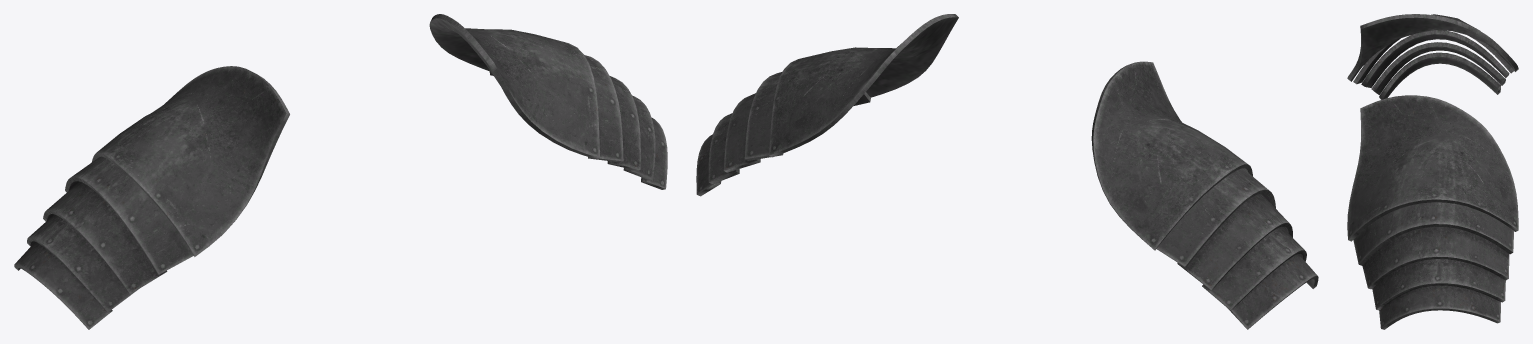
File: sk_uruk_hai_pauldron_heavy_a1.fbx
3 renders of one model, left to right at view 1: azimuth 30°, elevation 25°; view 2: azimuth 150°, elevation 25°; view 3: azimuth 270°, elevation 25°, orthographic. The views are drawn at different scales.
Parts seen in each view (by area): view 1: sk_uruk_hai_pauldron_heavy_a1; view 2: sk_uruk_hai_pauldron_heavy_a1; view 3: sk_uruk_hai_pauldron_heavy_a1.
Boxes of the visible parts, x1=… form: sk_uruk_hai_pauldron_heavy_a1: x1=14, y1=14, x2=667, y2=329; sk_uruk_hai_pauldron_heavy_a1: x1=696, y1=14, x2=1318, y2=329; sk_uruk_hai_pauldron_heavy_a1: x1=1347, y1=14, x2=1518, y2=329.
Size of the model in its own units: 0.808 by 0.2349 by 0.2442.
1 material, 1 textured.
